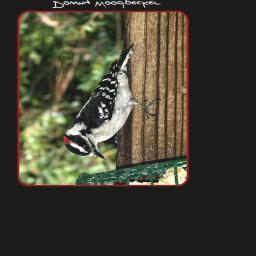Woodpecker: (62, 45, 164, 160)
